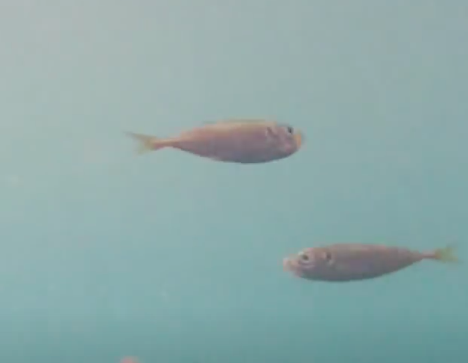azi: (124, 106, 311, 175), (271, 234, 453, 287)
